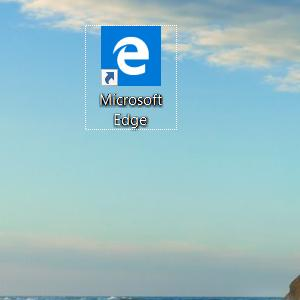edge: (101, 26, 161, 85)
